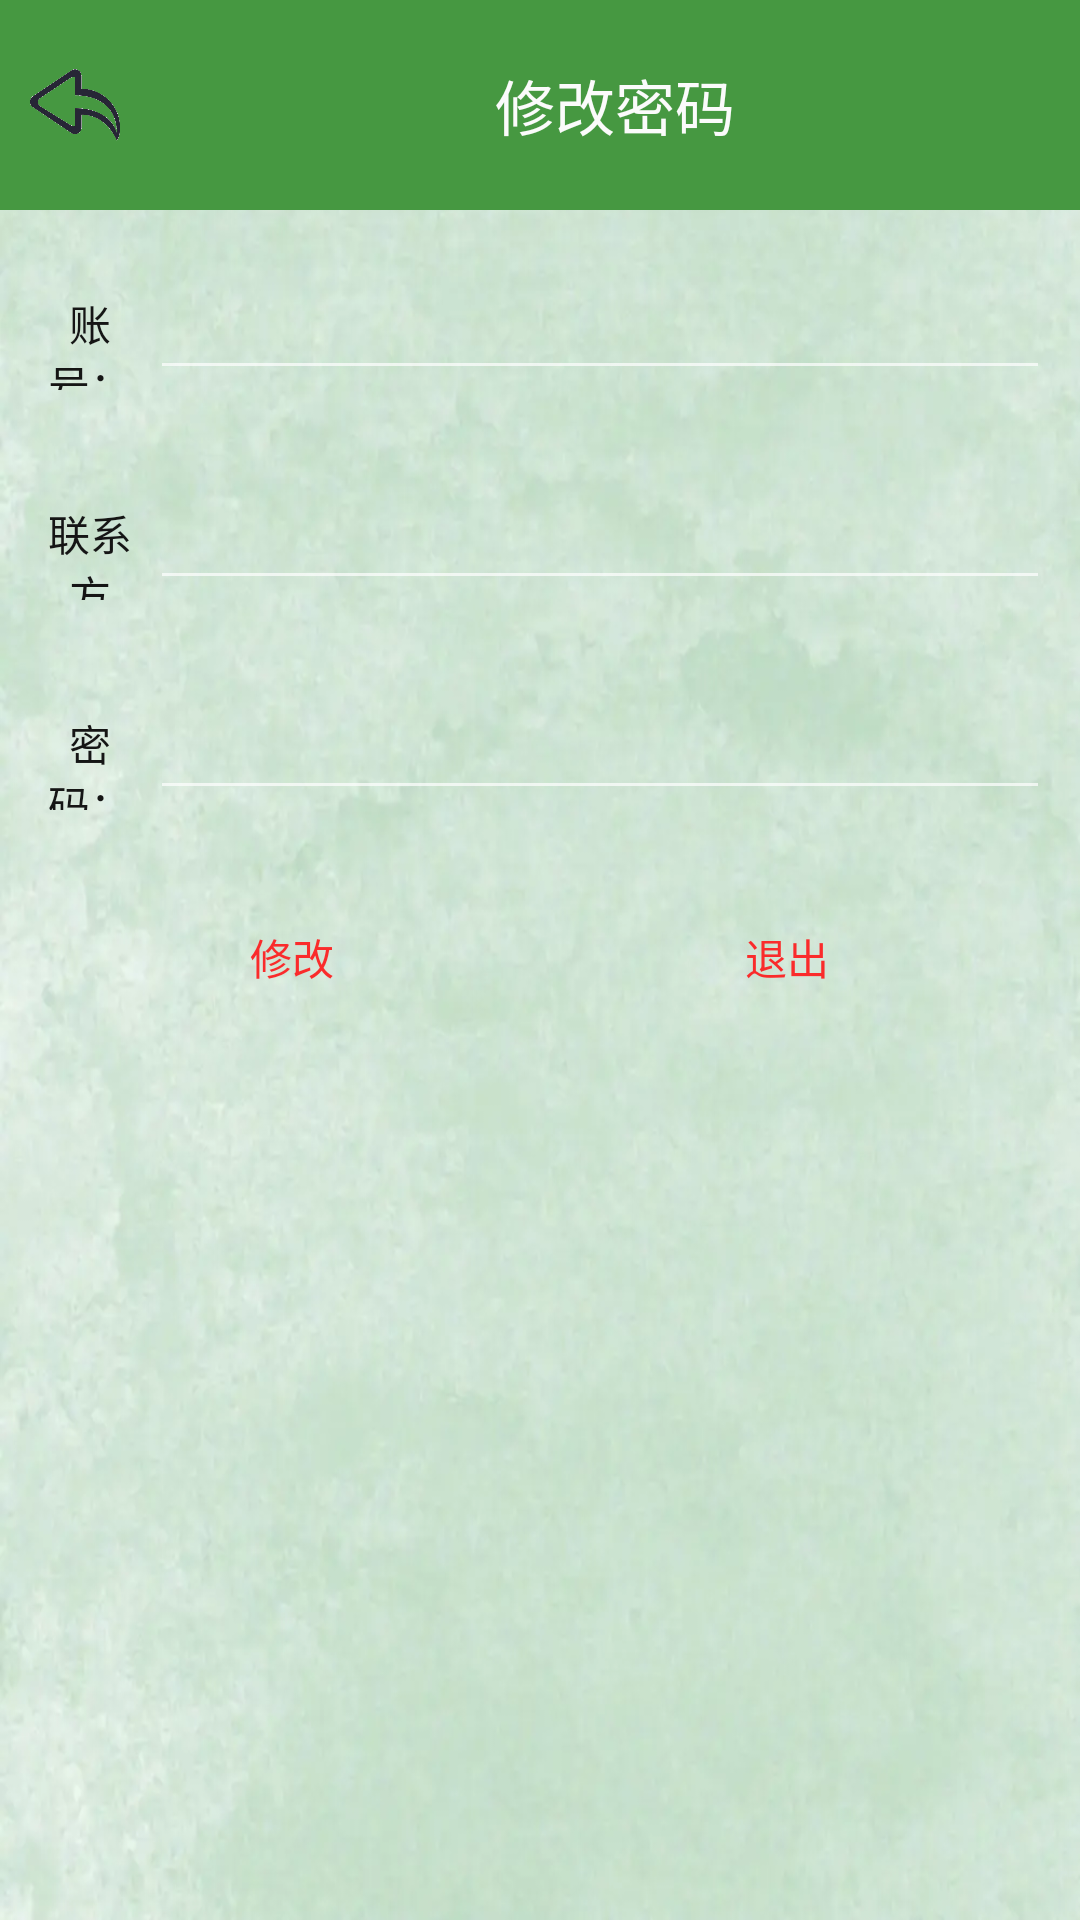

Screen size 1080*1920. Icon name, then its center in pixels as (x,y):
back: (75,105)
